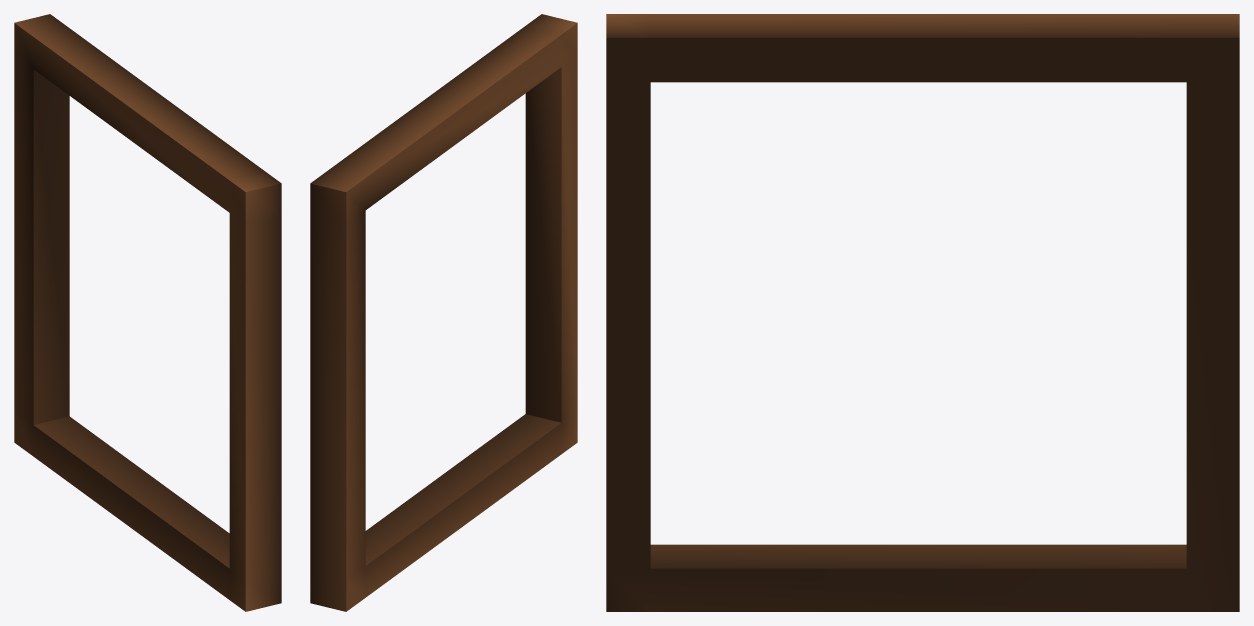
The model's file is Frame.fbx.
The picture shows the model from 3 angles, left to right: view 1: azimuth 30°, elevation 25°; view 2: azimuth 150°, elevation 25°; view 3: azimuth 270°, elevation 25°; orthographic projection. The views are drawn at different scales.
Parts seen in each view (by area): view 1: Cube; view 2: Cube; view 3: Cube.
Part boxes in pixels (x1,y1,x2,y2): Cube: (14, 14, 281, 611); Cube: (310, 14, 577, 611); Cube: (606, 14, 1239, 611).
Size of the model in its own units: 25.97 by 289 by 289.
